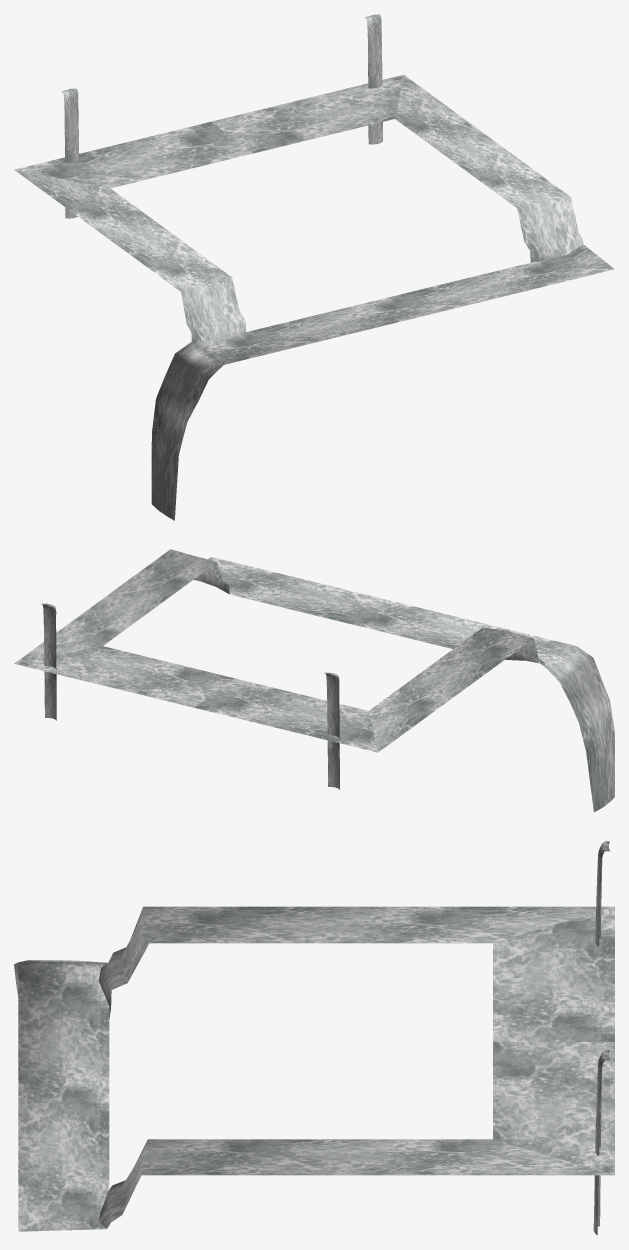
Rendered from Cell4_liushui.fbx.
3 renders of one model, top to bottom at view 1: azimuth 30°, elevation 25°; view 2: azimuth 150°, elevation 25°; view 3: azimuth 270°, elevation 25°, orthographic. The views are drawn at different scales.
Parts seen in each view (by area): view 1: Cell4_liushui; view 2: Cell4_liushui; view 3: Cell4_liushui.
Part boxes in pixels (<box>): Cell4_liushui: <box>14,14,614,520</box>; Cell4_liushui: <box>14,549,614,812</box>; Cell4_liushui: <box>14,841,614,1235</box>.
Size of the model in its own units: 30.35 by 17.04 by 25.52.
